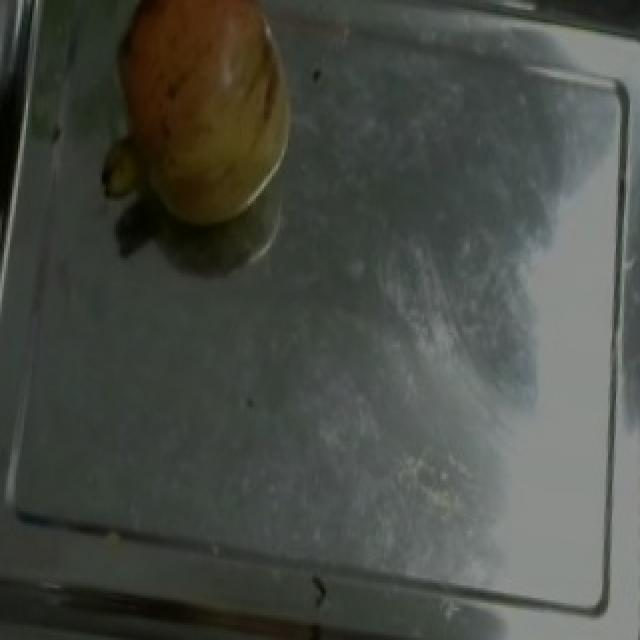fruit: (96, 0, 318, 246)
